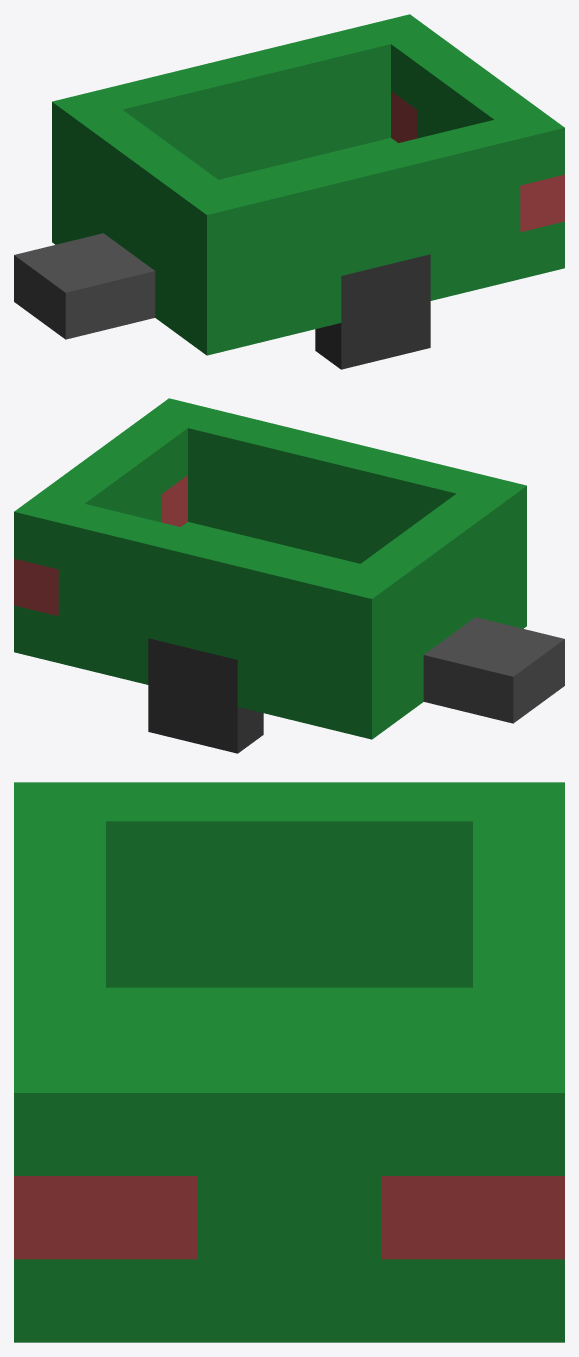
Rendered from car-trailer-v1-green.gltf.
3 renders of one model, top to bottom at view 1: azimuth 30°, elevation 25°; view 2: azimuth 150°, elevation 25°; view 3: azimuth 270°, elevation 25°, orthographic. The views are drawn at different scales.
Parts seen in each view (by area): view 1: model, wheels; view 2: model, wheels; view 3: model.
Boxes of the visible parts, box(x1,y1,x2,y2) form: model: box(14, 14, 564, 355); wheels: box(315, 254, 430, 369); model: box(14, 398, 564, 739); wheels: box(148, 638, 263, 753); model: box(14, 782, 564, 1342).
Size of the model in its own units: 1 by 0.4 by 0.6.
Materials: 2 (2 with a texture image).
